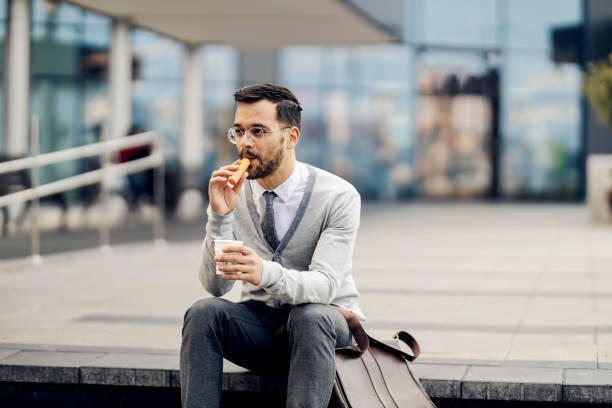cigarette: (227, 158, 251, 189)
